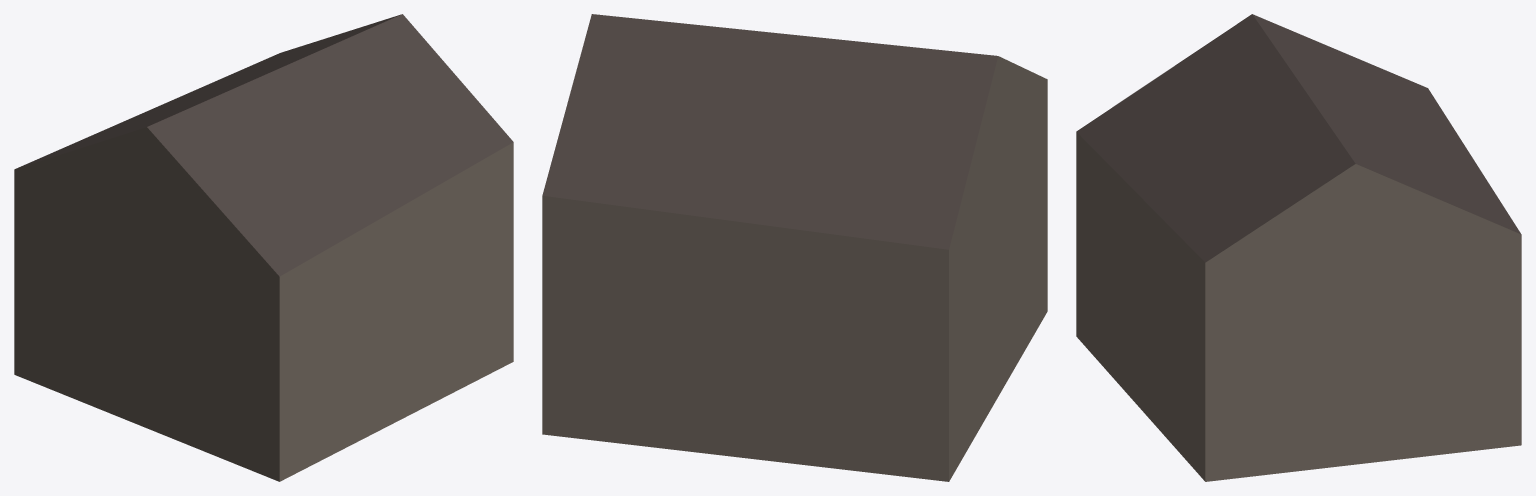
3 views of the same model, side by side, from view 1: azimuth 30°, elevation 25°; view 2: azimuth 150°, elevation 25°; view 3: azimuth 270°, elevation 25° (orthographic). The views are drawn at different scales.
Visible parts, largest first — view 1: HP-w1198667812; view 2: HP-w1198667812; view 3: HP-w1198667812.
Boxes of the visible parts, box(x1,y1,x2,y2) form: HP-w1198667812: box(14, 14, 513, 481); HP-w1198667812: box(542, 14, 1047, 481); HP-w1198667812: box(1076, 14, 1521, 481).
Bounding box in the file's own units: 11.86 × 8.81 × 11.82.
